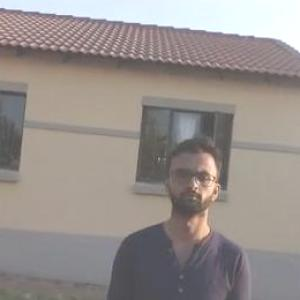follow: (91, 130, 253, 299)
